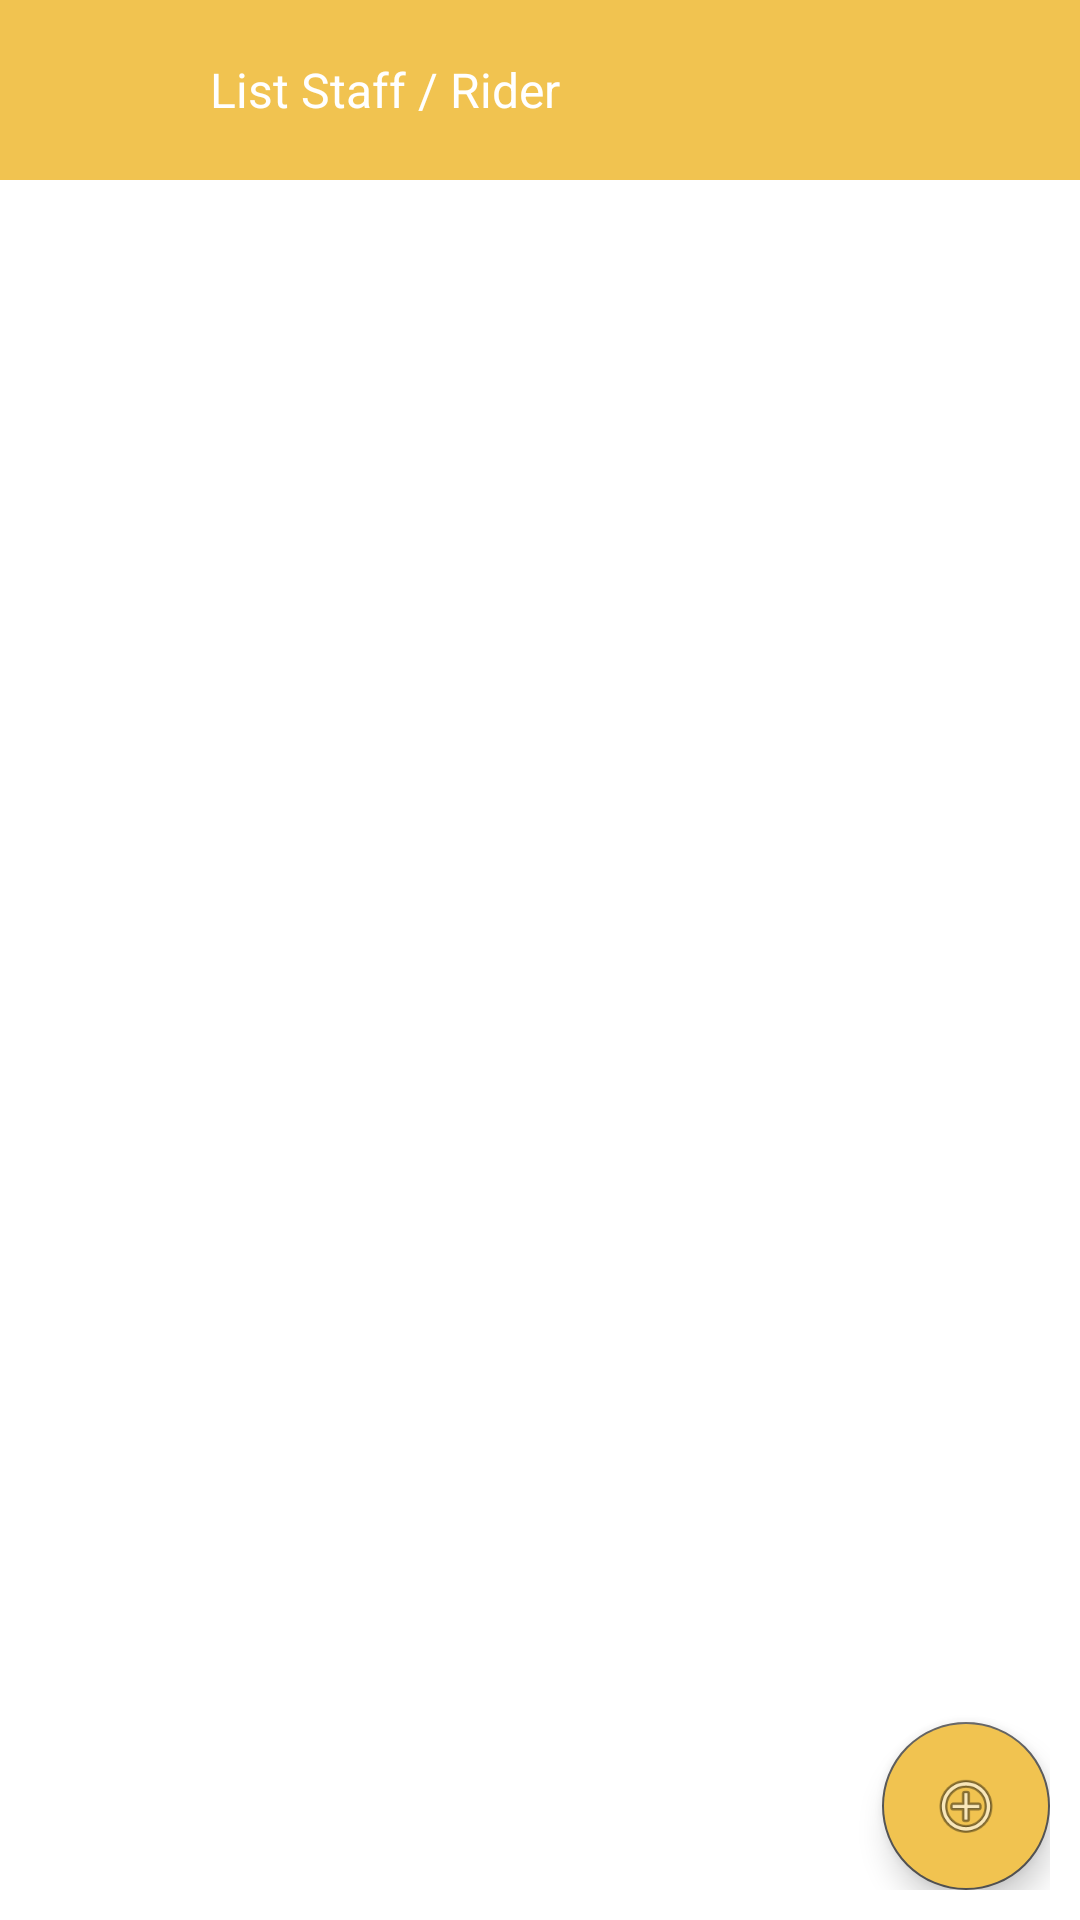

Point at icon controls on the screen. Image size 1080w x 1920h, points as point (x, y).
add: point (966, 1806)
